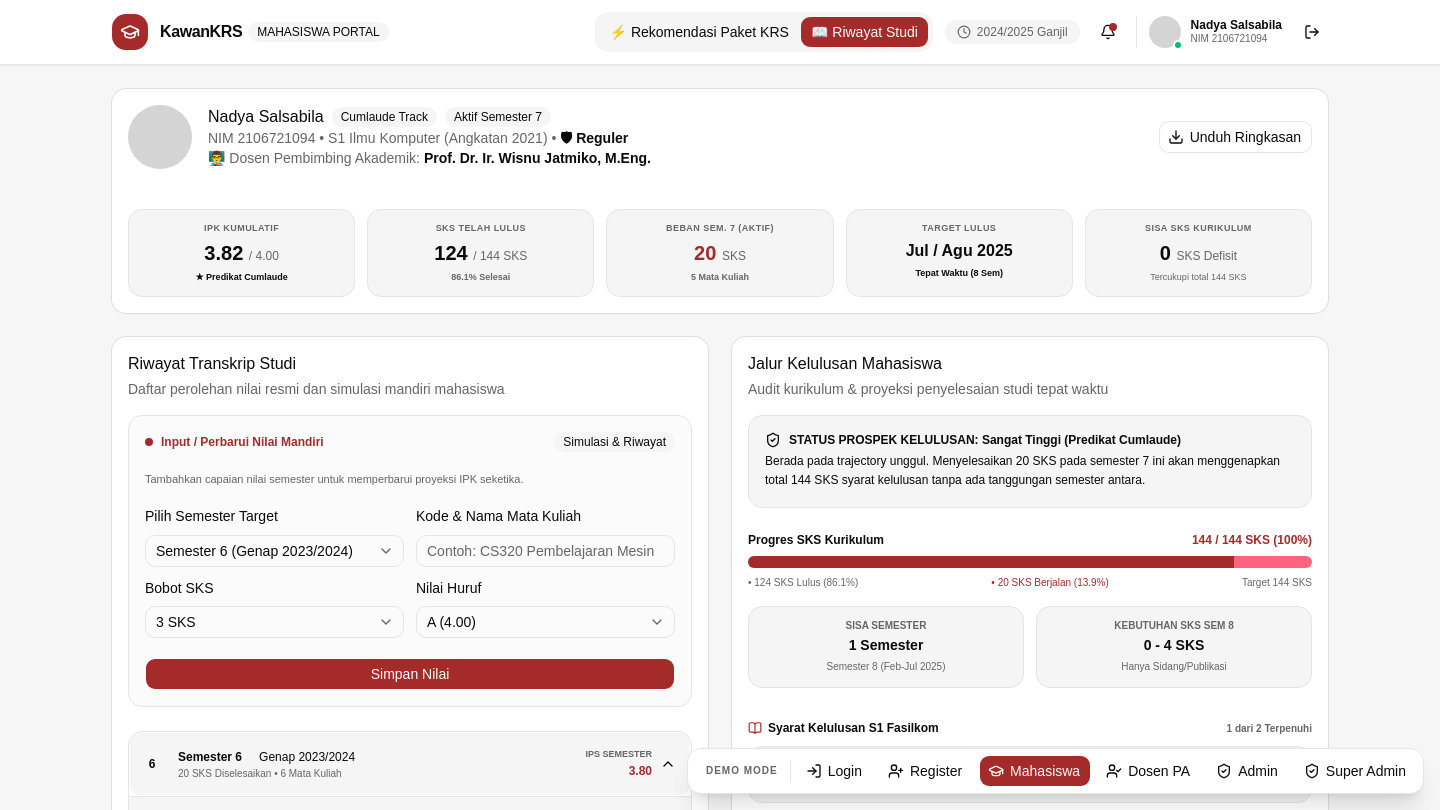
Test case: shadcn controls and accessibility › exposes semester expansion state on /mahasiswa/riwayat
Click the button "Semester 6" at (210, 757), box [129, 732, 691, 796]
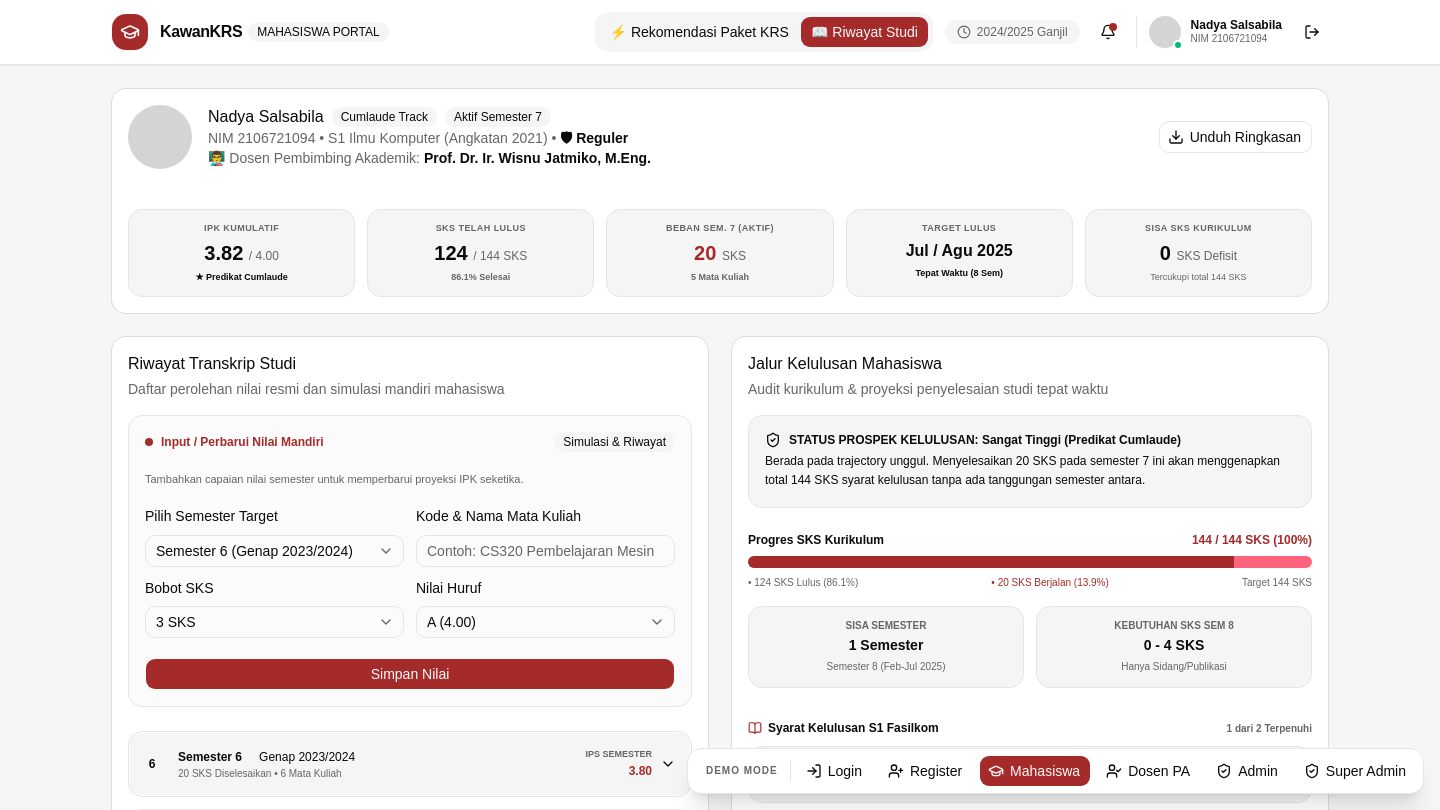
Now the button "Semester 6" is collapsed
Click the button "Semester 6" at (210, 757), box [129, 732, 691, 796]
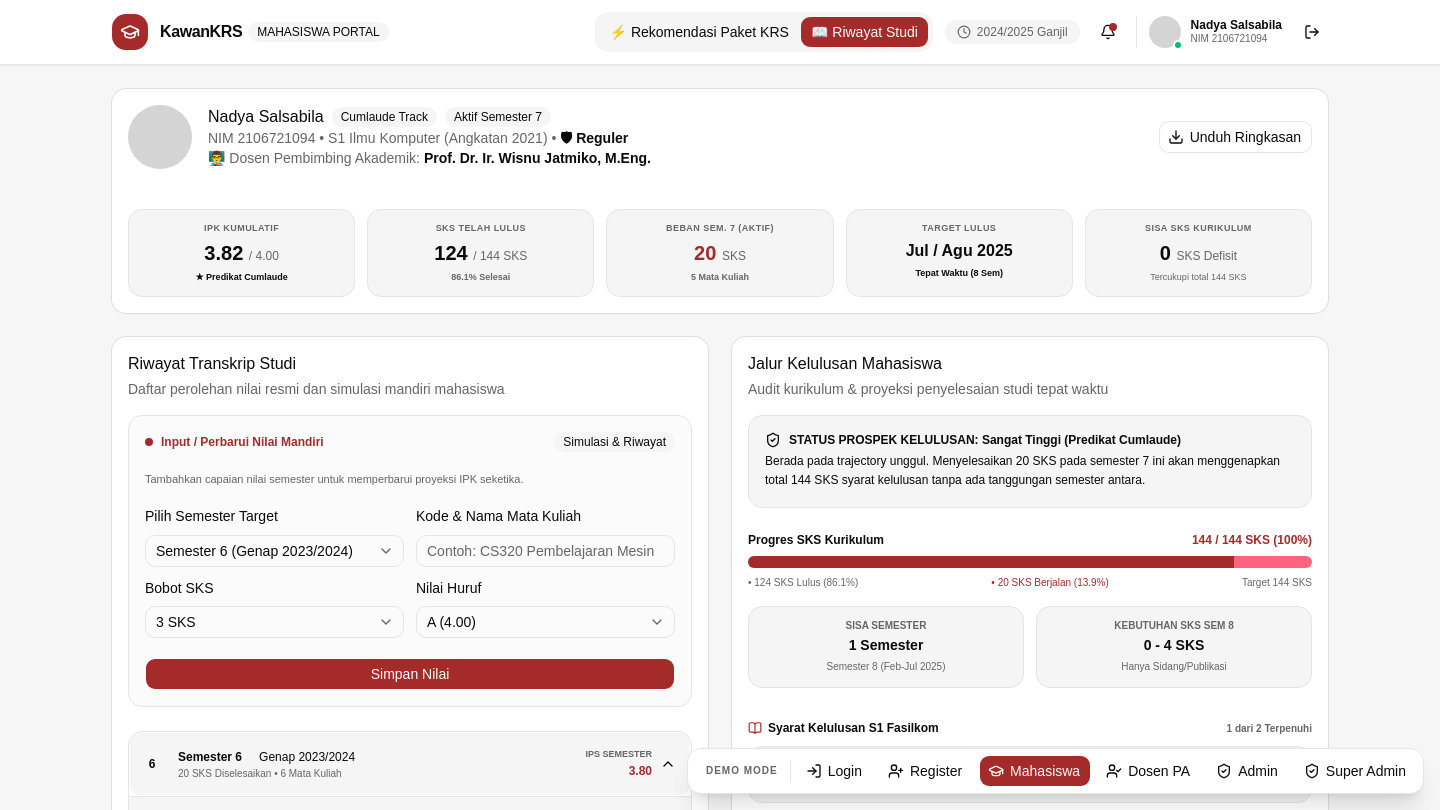
Now the button "Semester 6" is expanded, box [129, 732, 691, 796]
